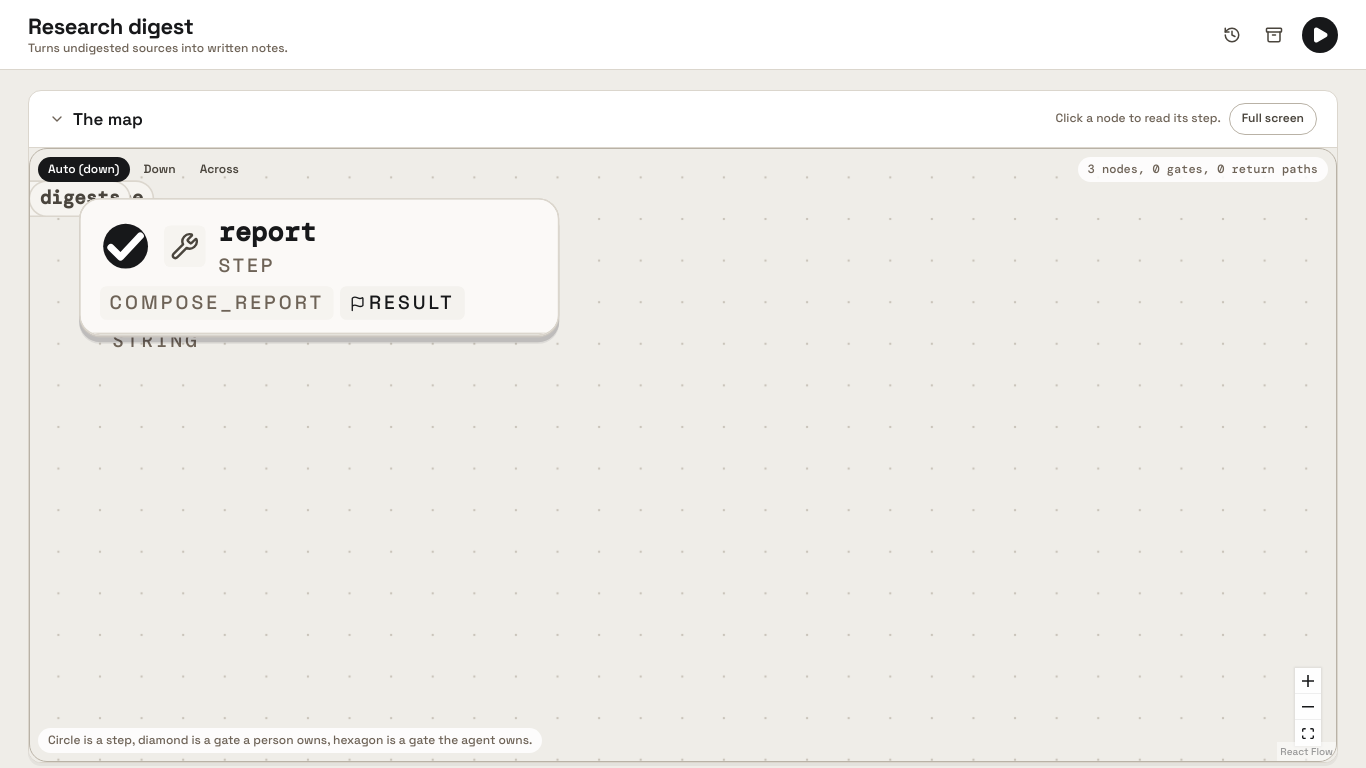
Test: WorkflowAbout › opens the map full screen as the bare drawing, and Escape leaves it
Click the button "Full screen".
click(1273, 119)  # box [1229,103,1317,135]
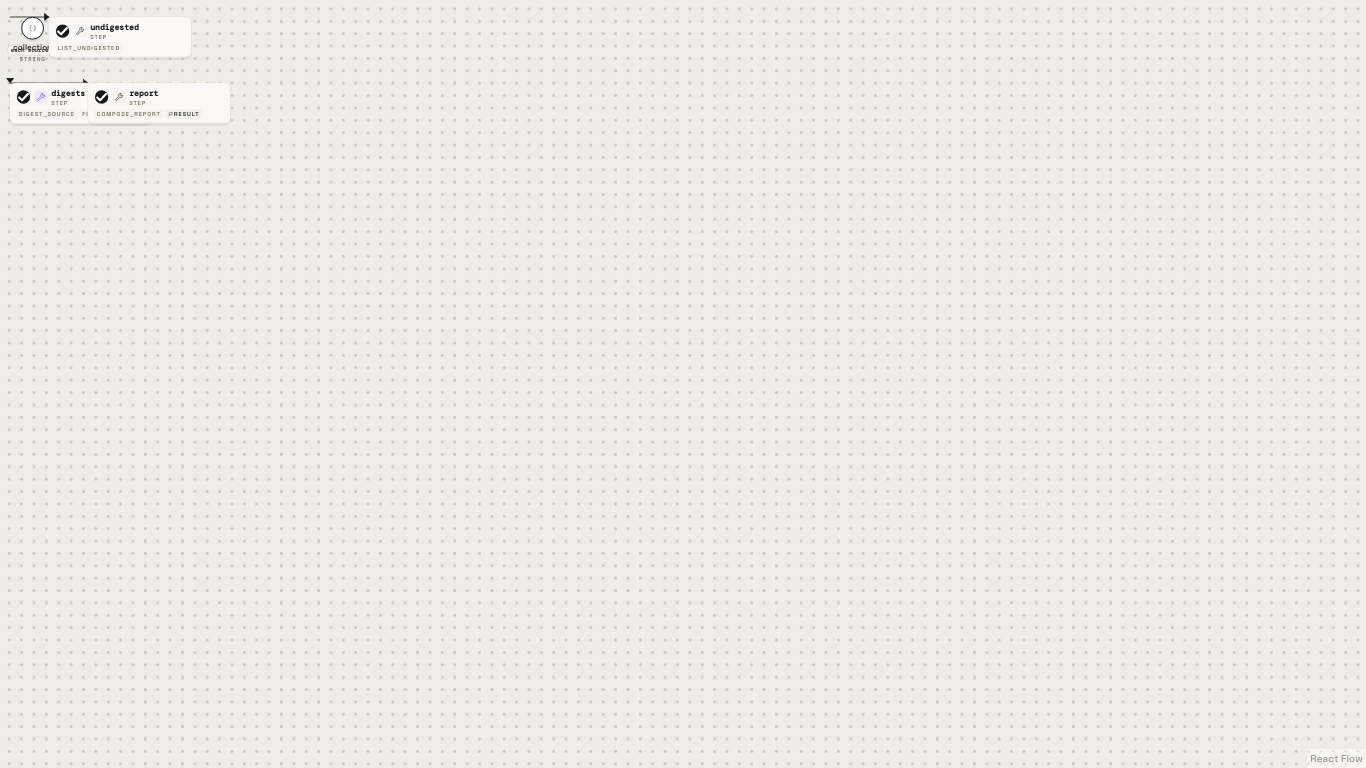
Check: the dialog named "The map, full screen" is shown
Press Escape
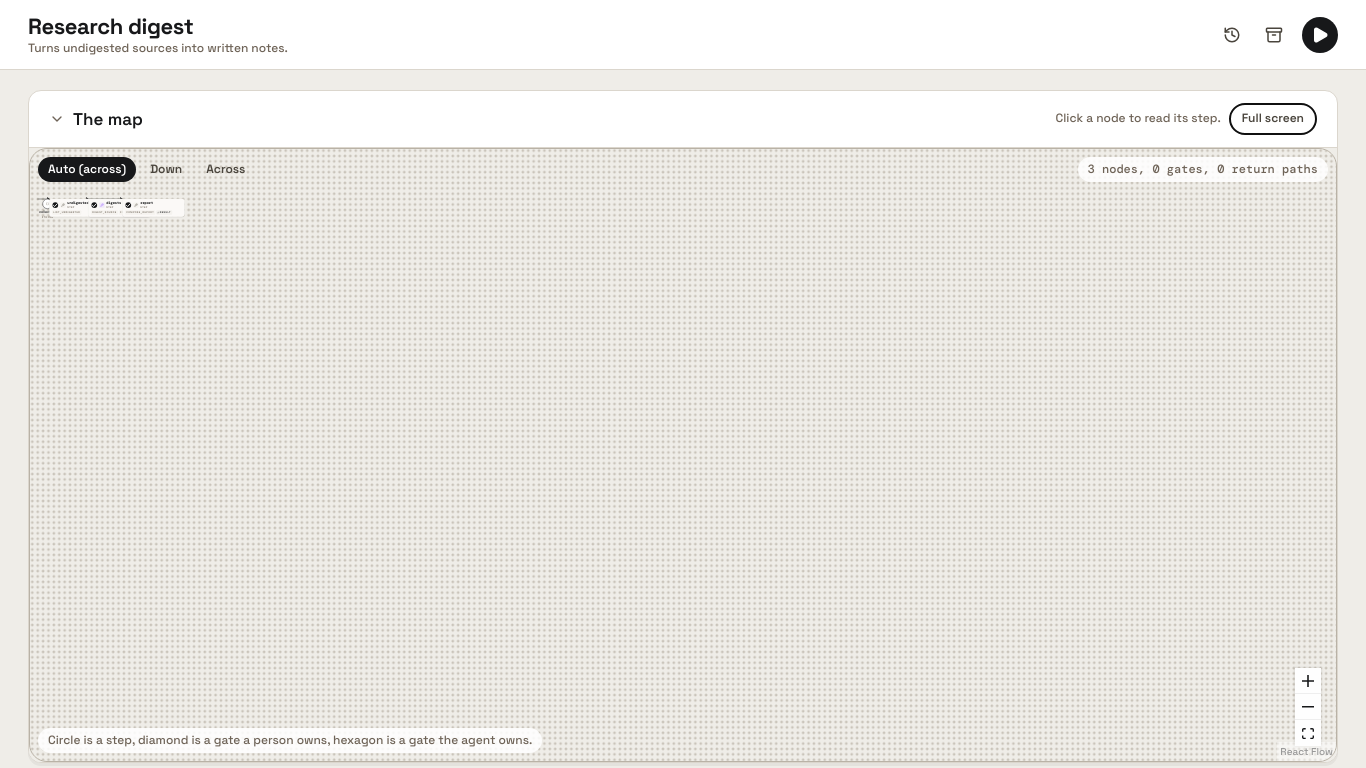
Check: the dialog is gone
